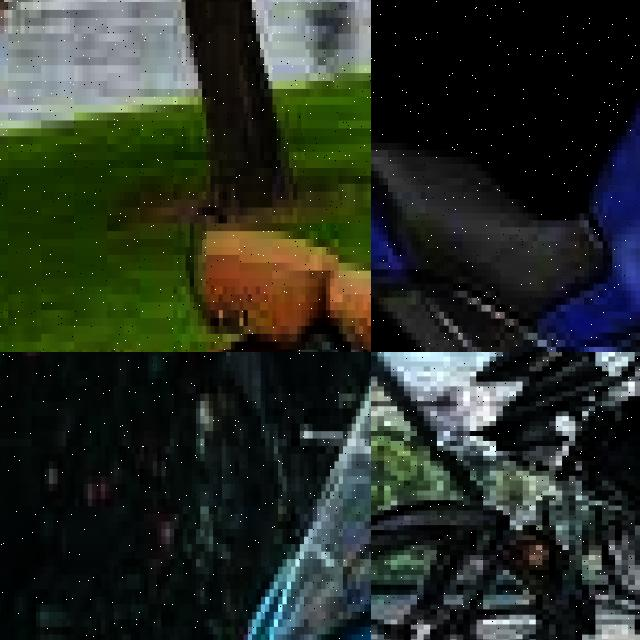bike: (82, 0, 371, 352), (371, 0, 640, 352), (371, 352, 640, 640), (126, 352, 371, 640)
